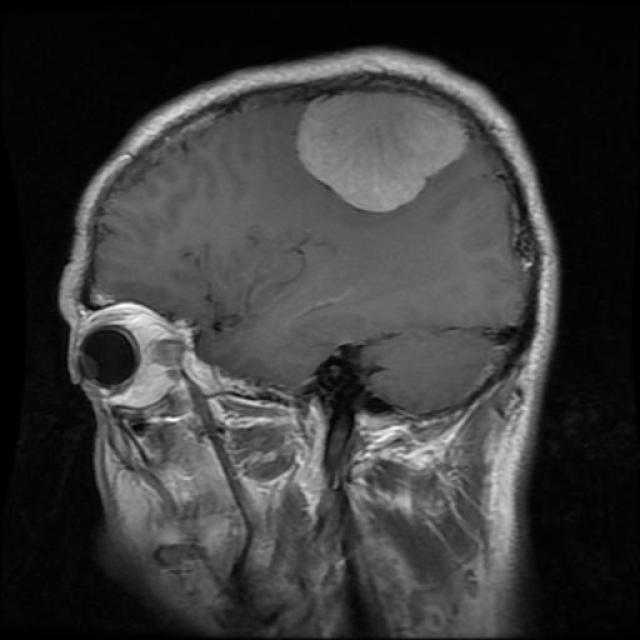Meningioma: (297, 94, 468, 216)
